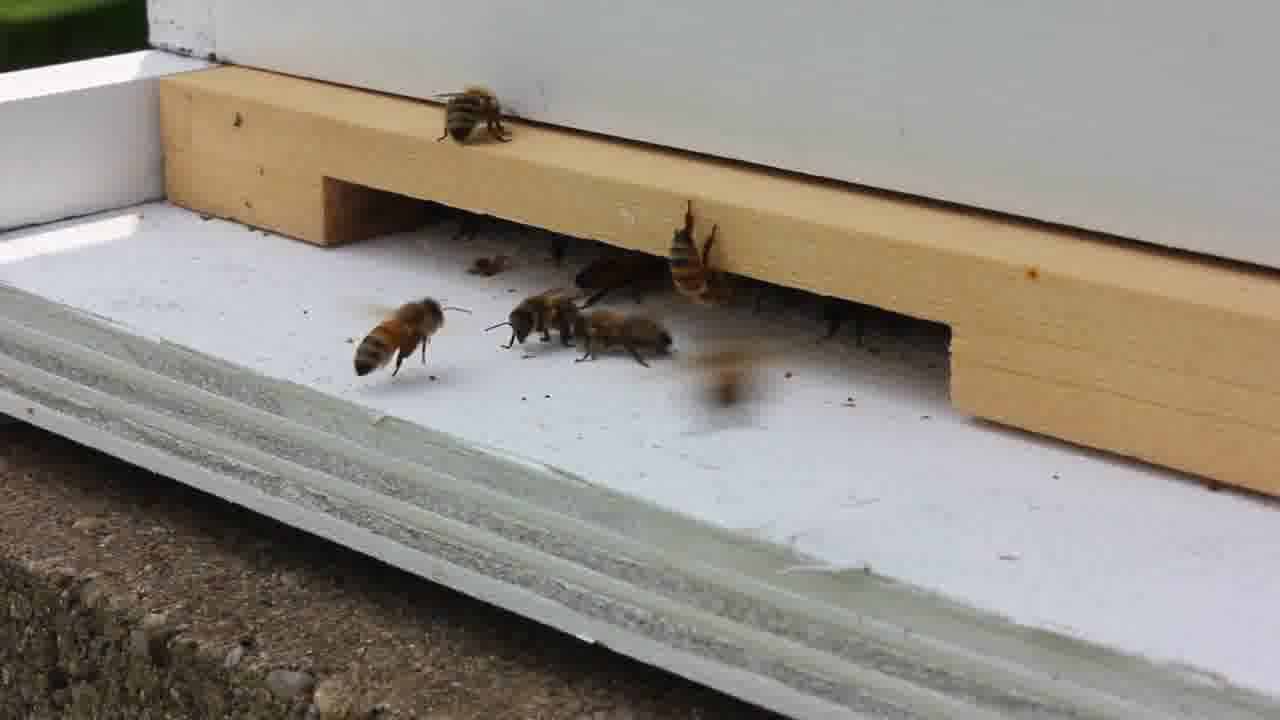pollen: (347, 302, 450, 386)
